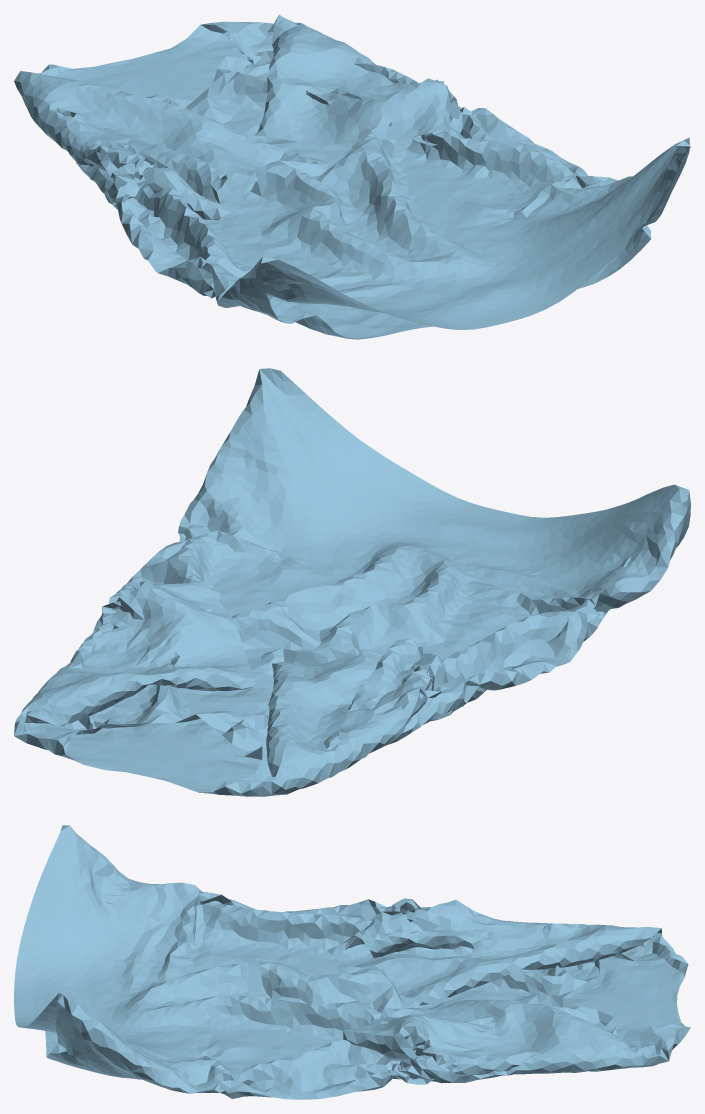
Rendered from frame_02.glb.
3 views of the same model, one above another, from view 1: azimuth 30°, elevation 25°; view 2: azimuth 150°, elevation 25°; view 3: azimuth 270°, elevation 25° (orthographic). The views are drawn at different scales.
Parts seen in each view (by area): view 1: frame_02.obj; view 2: frame_02.obj; view 3: frame_02.obj.
Boxes of the visible parts, <box> form: frame_02.obj: <box>14,14,690,339</box>; frame_02.obj: <box>14,368,690,796</box>; frame_02.obj: <box>14,825,690,1099</box>.
Size of the model in its own units: 1.2 by 0.3086 by 1.72.
